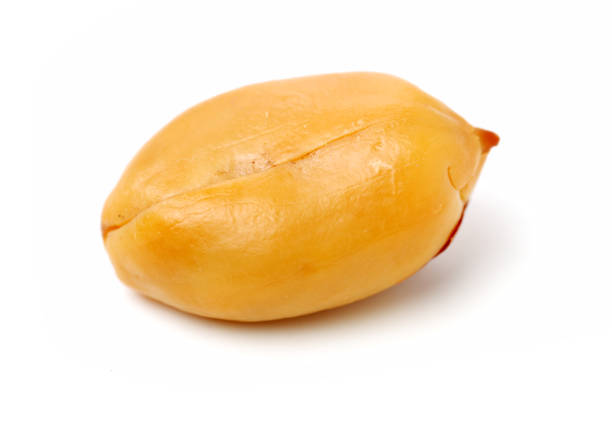peanut: (101, 70, 499, 323)
